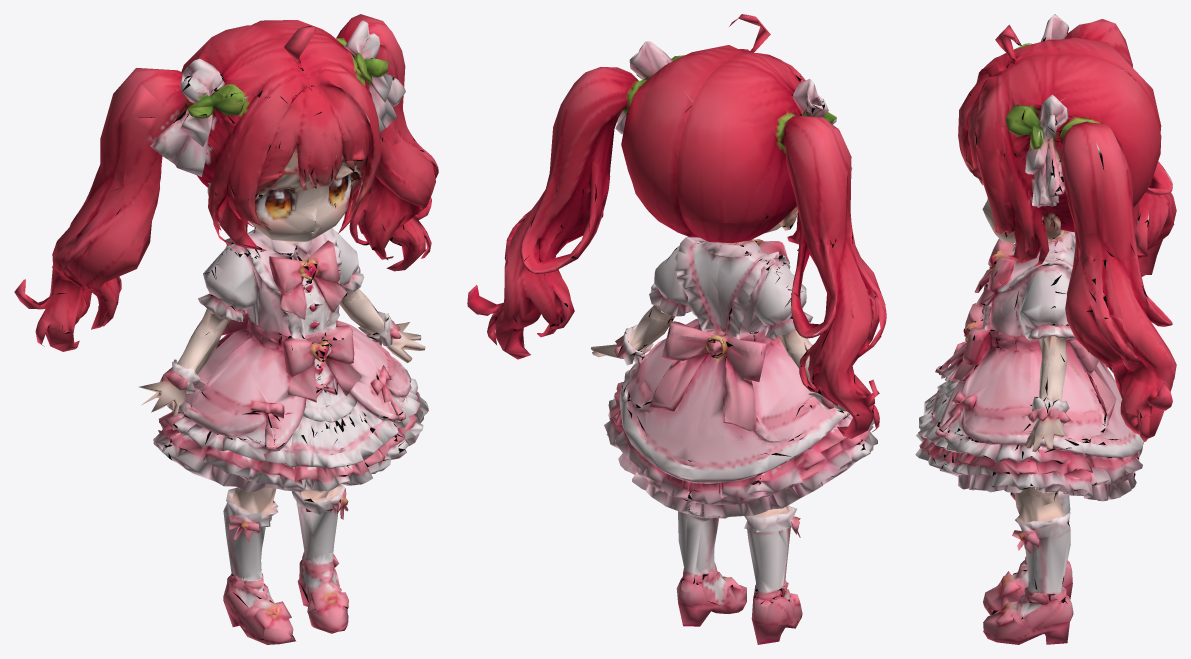
File: magical_girl.glb
The picture shows the model from 3 angles, left to right: view 1: azimuth 30°, elevation 25°; view 2: azimuth 150°, elevation 25°; view 3: azimuth 270°, elevation 25°; orthographic projection.
Visible parts, largest first — view 1: 52421dc686db4f27b4f91d02b2f4dcd1; view 2: 52421dc686db4f27b4f91d02b2f4dcd1; view 3: 52421dc686db4f27b4f91d02b2f4dcd1.
Boxes of the visible parts, bbox=[...] form: 52421dc686db4f27b4f91d02b2f4dcd1: bbox=[14, 14, 438, 644]; 52421dc686db4f27b4f91d02b2f4dcd1: bbox=[467, 14, 886, 644]; 52421dc686db4f27b4f91d02b2f4dcd1: bbox=[915, 14, 1176, 644].
Bounding box in the file's own units: 0.715 × 1 × 0.3967.
Materials: 1 (1 with a texture image).
